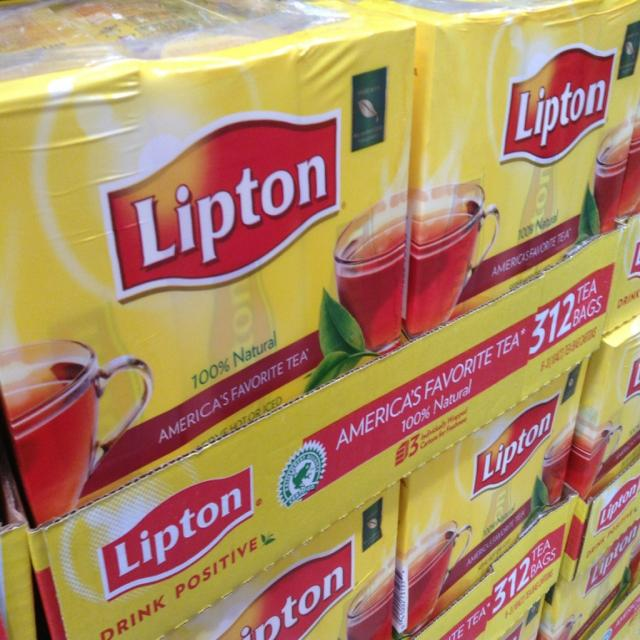Tea: (2, 368, 100, 518), (336, 216, 406, 353), (410, 213, 480, 337), (404, 533, 456, 633), (593, 129, 635, 238), (347, 574, 395, 640), (566, 436, 610, 505), (539, 434, 573, 504), (616, 130, 640, 219)
